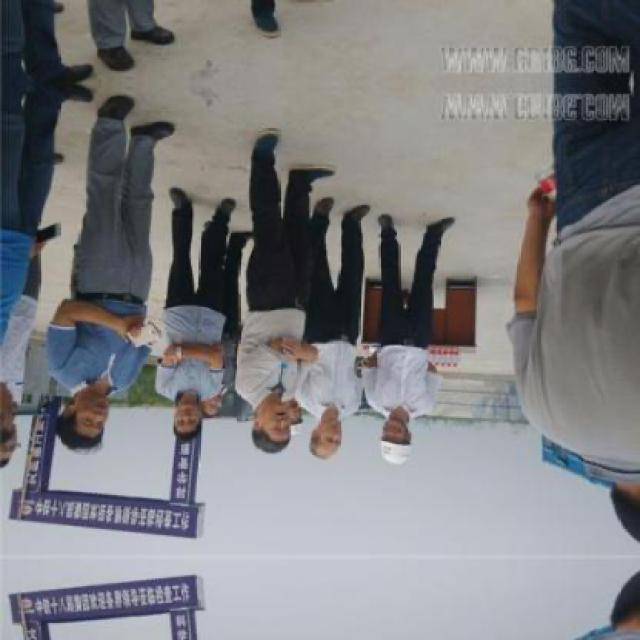con casco: (374, 404, 428, 474)
sin casco: (51, 374, 116, 464), (164, 383, 207, 456), (241, 405, 288, 462), (308, 404, 346, 472)
